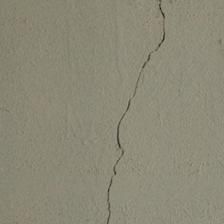Crack: (116, 4, 170, 146), (105, 148, 126, 221)
